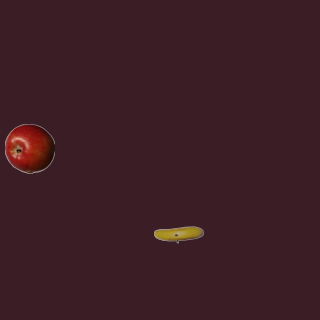Apple Braeburn: (4, 123, 54, 173)
Banana: (153, 209, 203, 259)
